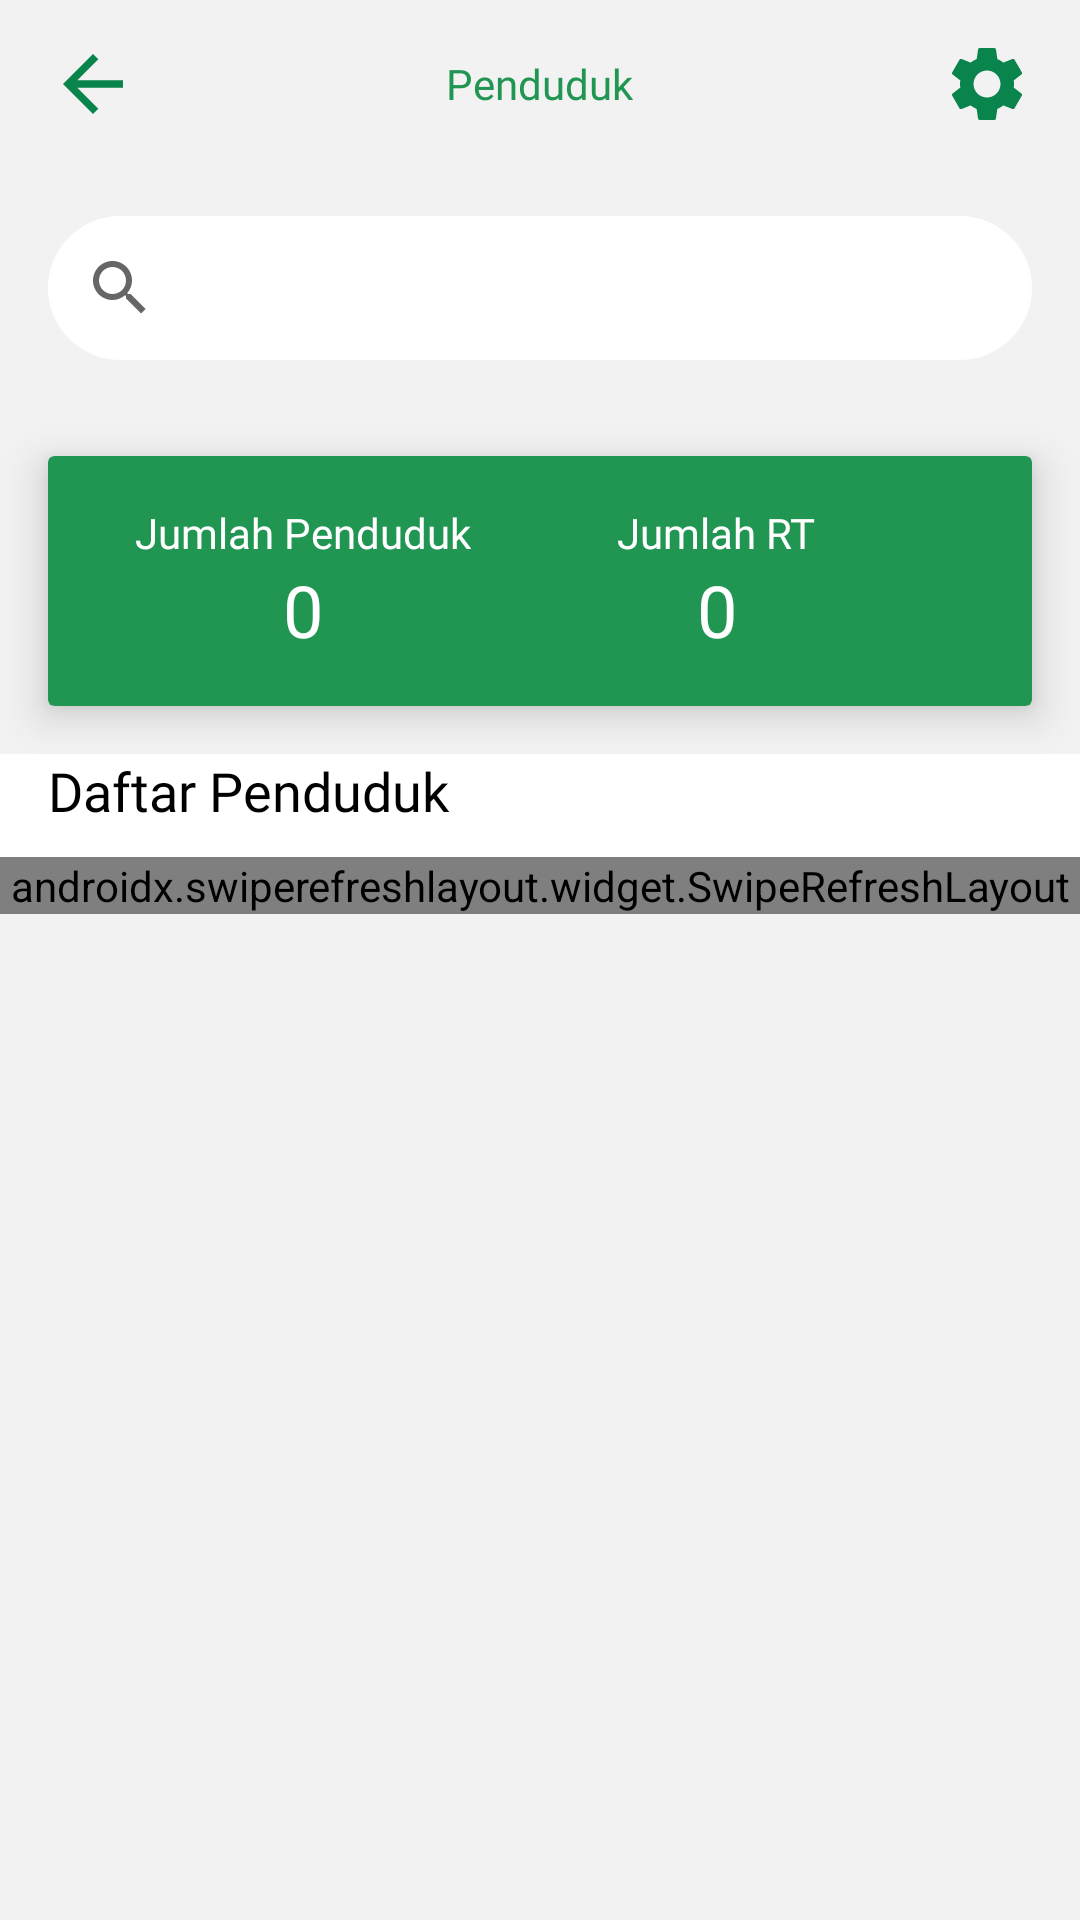

Locate icon controls on the screen. Image size 1080 × 1920, boxes as detection(x1, y1, x2, y2).
arrow back: detection(63, 54, 123, 114)
sett: detection(952, 48, 1022, 120)
